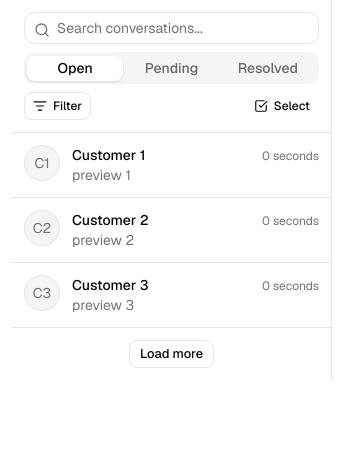
Test: ConversationList › applies a bulk action to exactly the selected conversations, then leaves select mode
Expected: the text "Customer 1" is shown, x1=72 y1=145 x2=145 y2=165
Click the button "Select" at coordinates (282, 106), box x1=245 y1=92 x2=319 y2=120
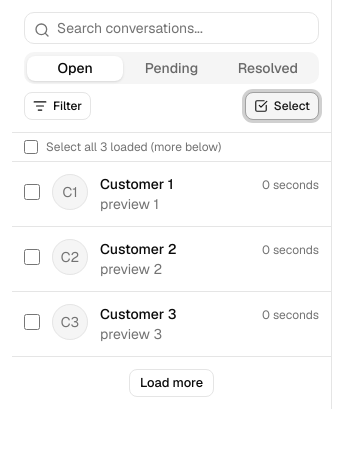
Click the text "Customer 1" at coordinates (137, 184), box x1=100 y1=174 x2=173 y2=194
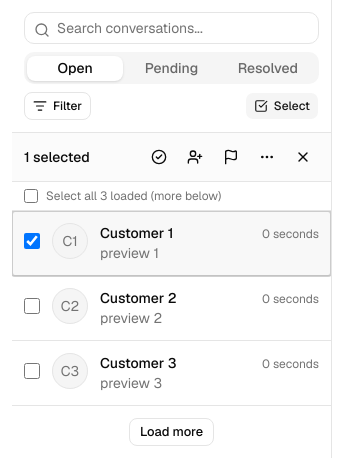
Click the text "Customer 3" at coordinates (138, 363), box x1=100 y1=353 x2=176 y2=373
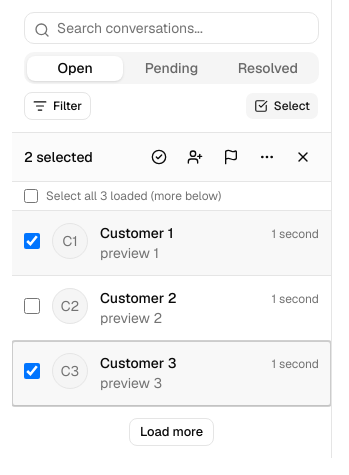
Click the button named "Resolve selected" at coordinates (159, 157), box x1=143 y1=141 x2=175 y2=173
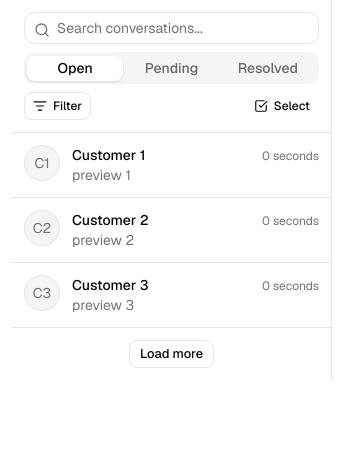
Expected: the text "selected" is gone
